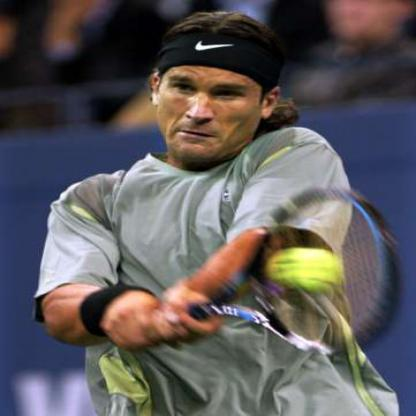face: (157, 15, 269, 161)
